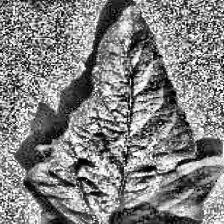spider mites: (25, 3, 224, 224)
